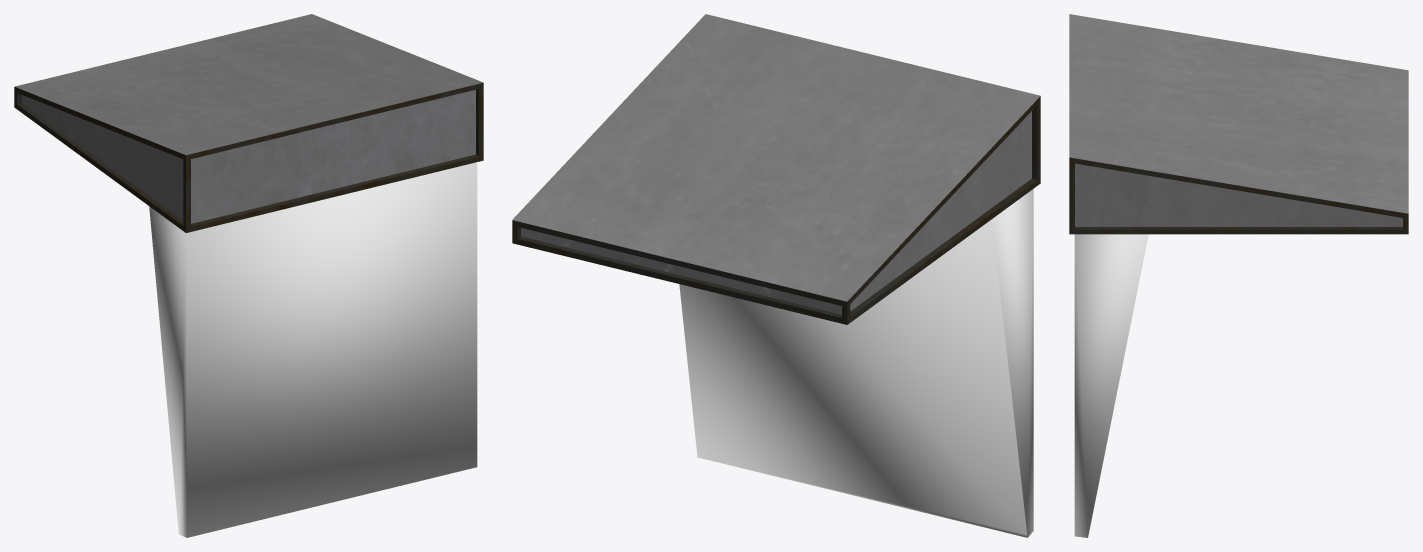
The model's file is SM_Roof_Small_03.fbx.
The picture shows the model from 3 angles, left to right: view 1: azimuth 30°, elevation 25°; view 2: azimuth 150°, elevation 25°; view 3: azimuth 270°, elevation 25°; orthographic projection. The views are drawn at different scales.
Parts seen in each view (by area): view 1: SM_Roof_Small_03_ConvexHulls, SM_Roof_Small_03; view 2: SM_Roof_Small_03, SM_Roof_Small_03_ConvexHulls; view 3: SM_Roof_Small_03, SM_Roof_Small_03_ConvexHulls.
Part boxes in pixels (x1,y1,x2,y2): SM_Roof_Small_03_ConvexHulls: (149, 162, 477, 537); SM_Roof_Small_03: (14, 14, 483, 232); SM_Roof_Small_03: (512, 14, 1040, 324); SM_Roof_Small_03_ConvexHulls: (679, 189, 1033, 537); SM_Roof_Small_03: (1069, 14, 1408, 234); SM_Roof_Small_03_ConvexHulls: (1074, 234, 1148, 537).
Bounding box in the file's own units: 3 × 3.72 × 3.
